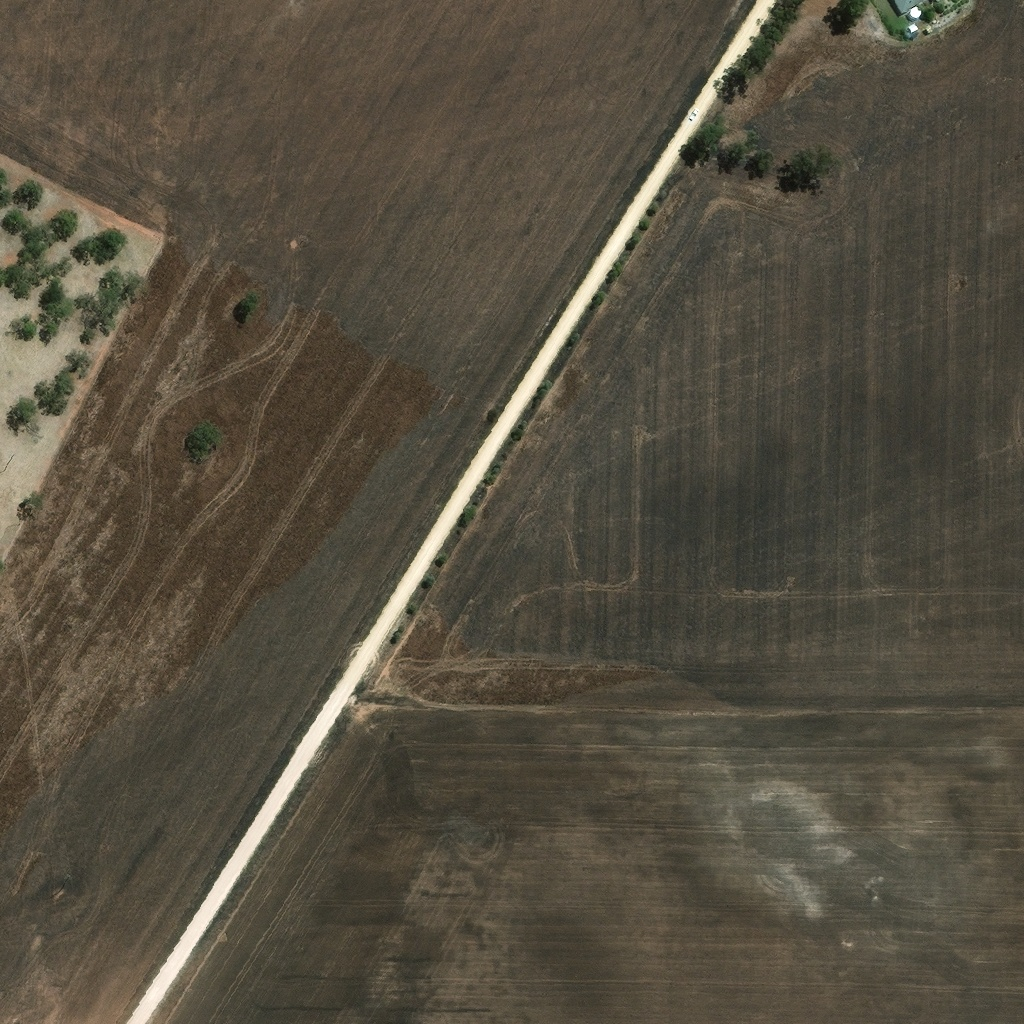0 no-damage: (907, 24, 919, 36), (923, 26, 935, 35)
